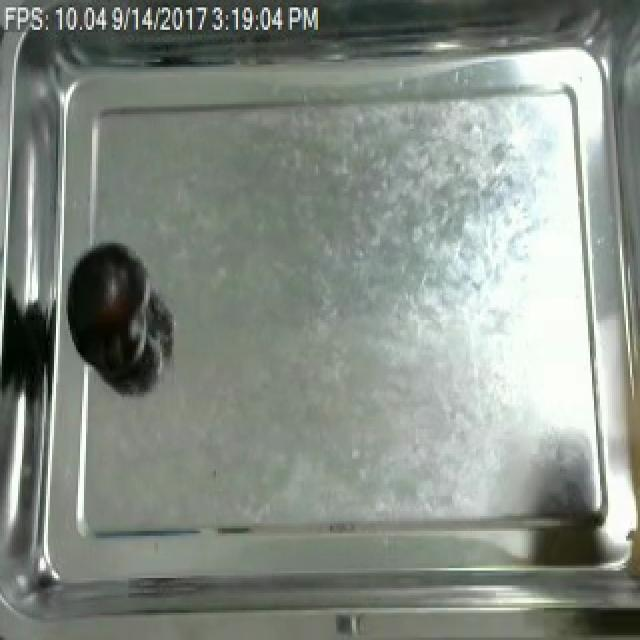Fruit: (62, 236, 156, 387)
